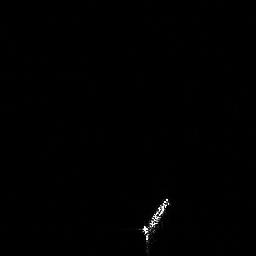ship: (137, 193, 174, 250)
